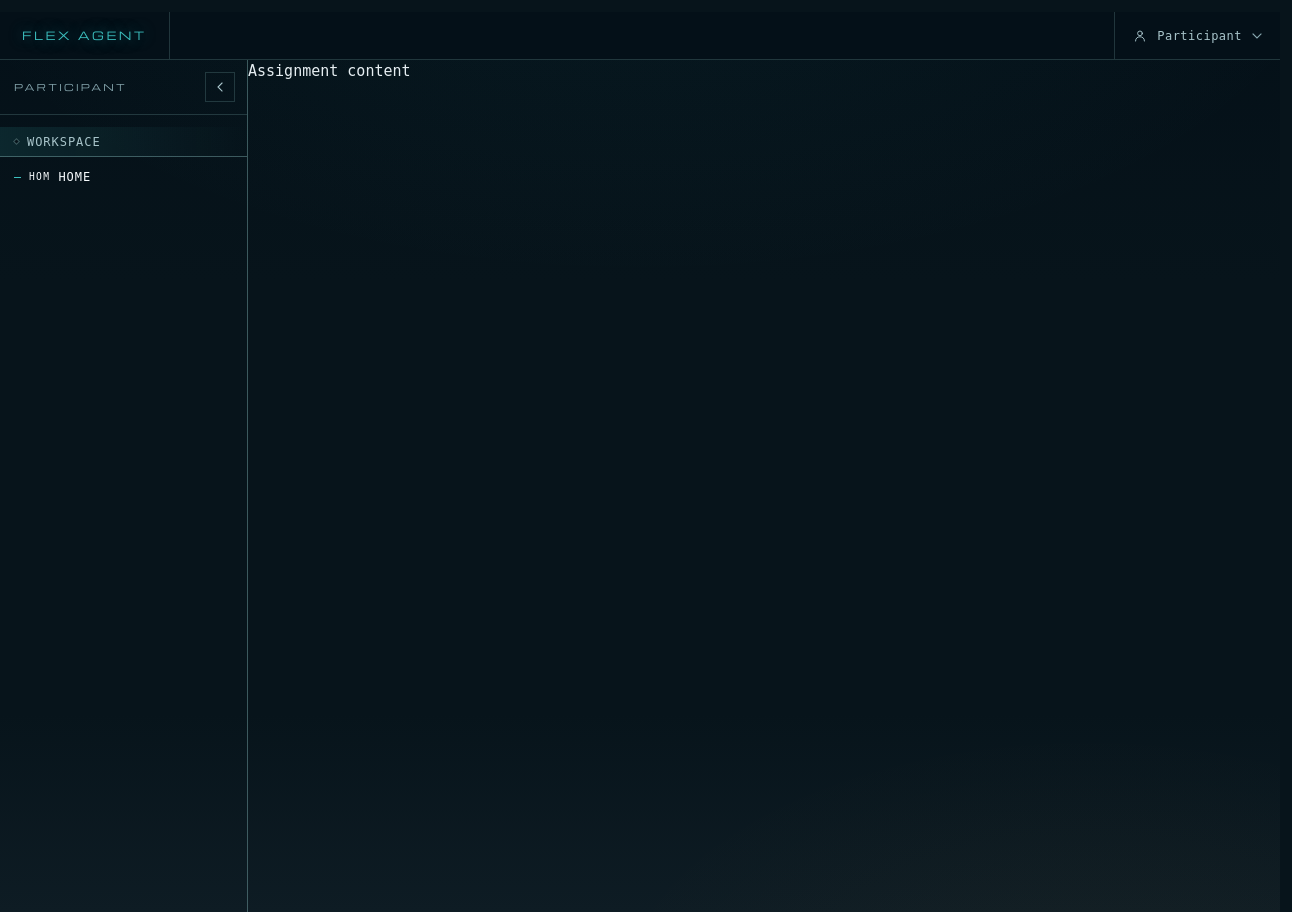
Test: production destination guards › clears protected content when logout confirmation is lost
Check: the text "Assignment content" is shown, box [248,62,411,80]
What coordinates should you click on to do the following:
click the button with aria-label "operator menu"
I would click on:
 (1197, 36)
Its box is [1114,12,1280,59].
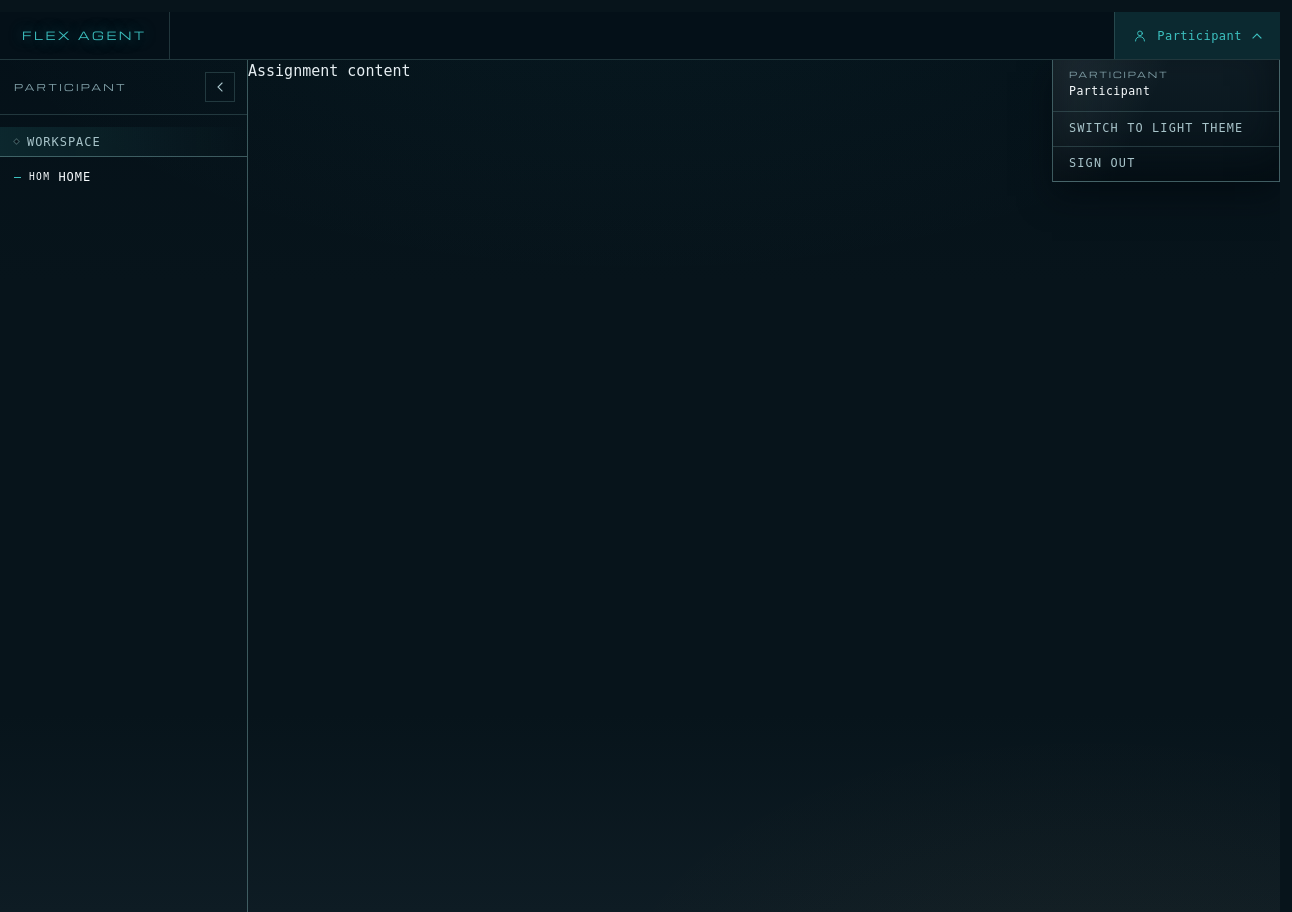
What coordinates should you click on to do the following:
click the menu item "Sign out"
I would click on:
 (1166, 164)
Its box is [1053,147,1279,181].
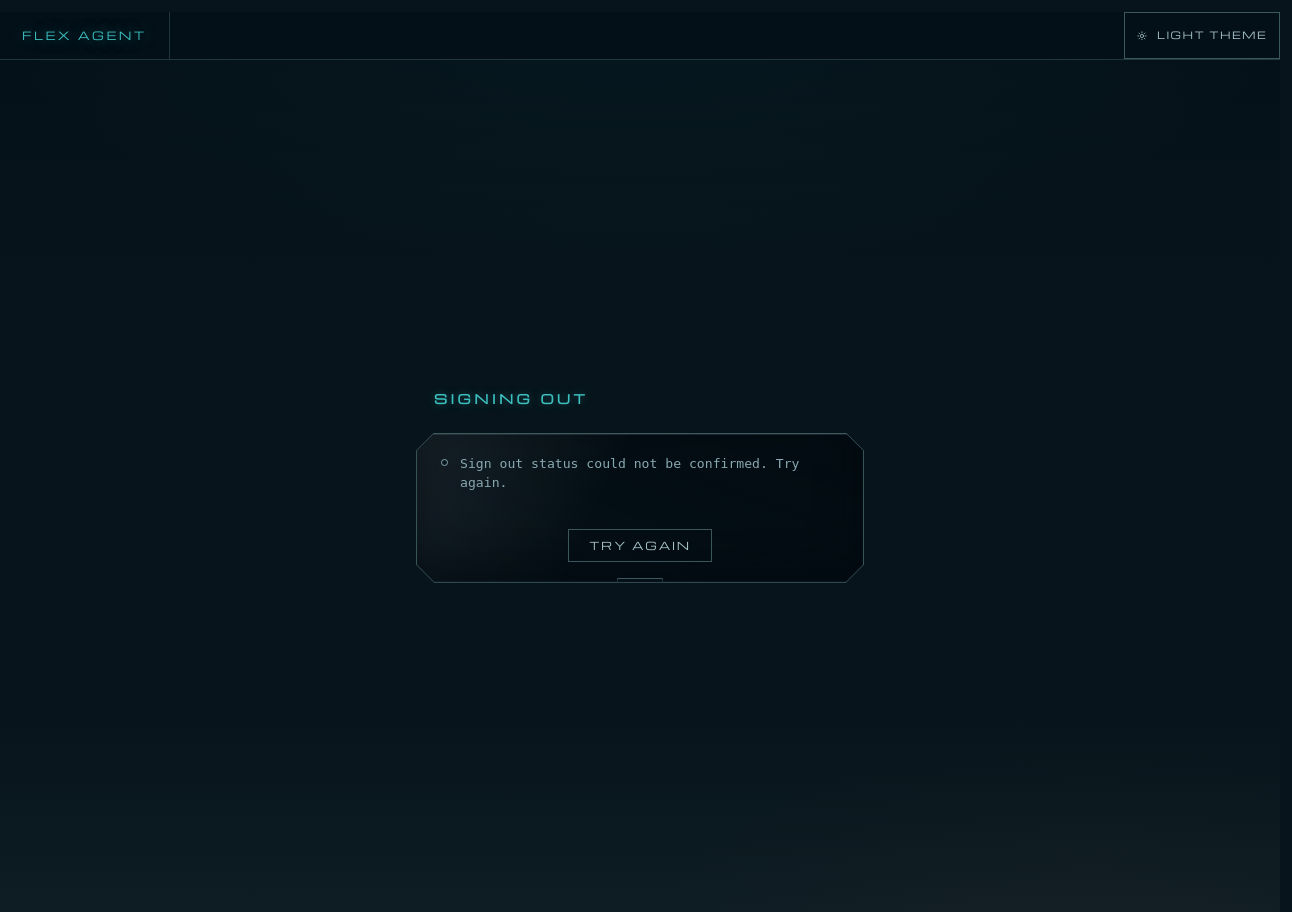
Check: the message reads "Sign out status could not be confirmed. Try again.", box [460,456,800,490]
Check: the text "Assignment content" is gone
Check: the button "Try again" is shown, box [568,529,712,562]
